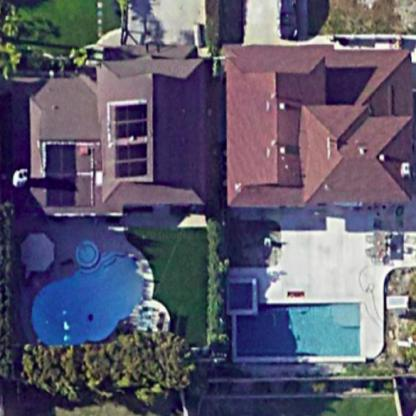car: (275, 1, 308, 44)
solar_panel: (106, 98, 160, 181), (36, 134, 81, 208)
swimming_pool: (23, 230, 164, 354), (216, 285, 371, 378)
